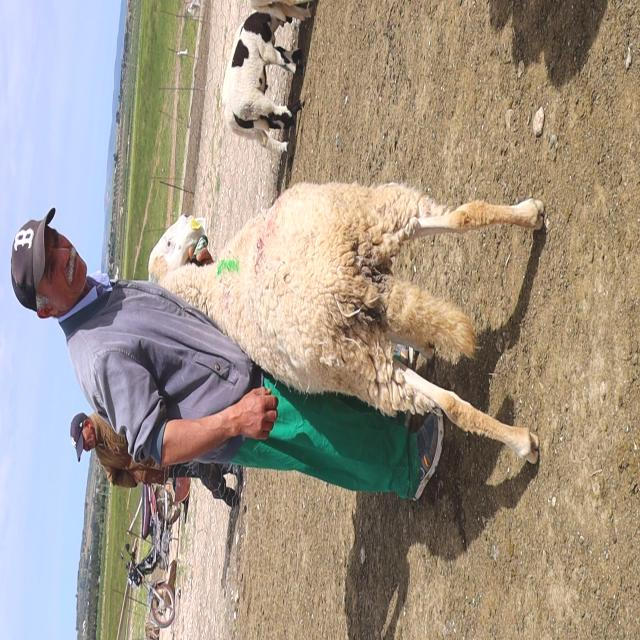Score_1: (149, 183, 544, 463)
